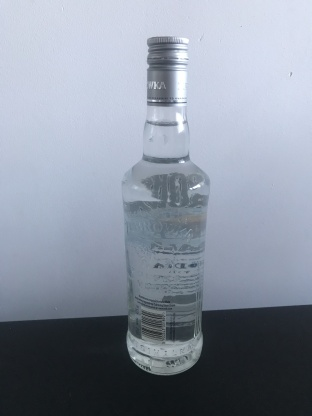nakretka: (145, 34, 190, 107)
